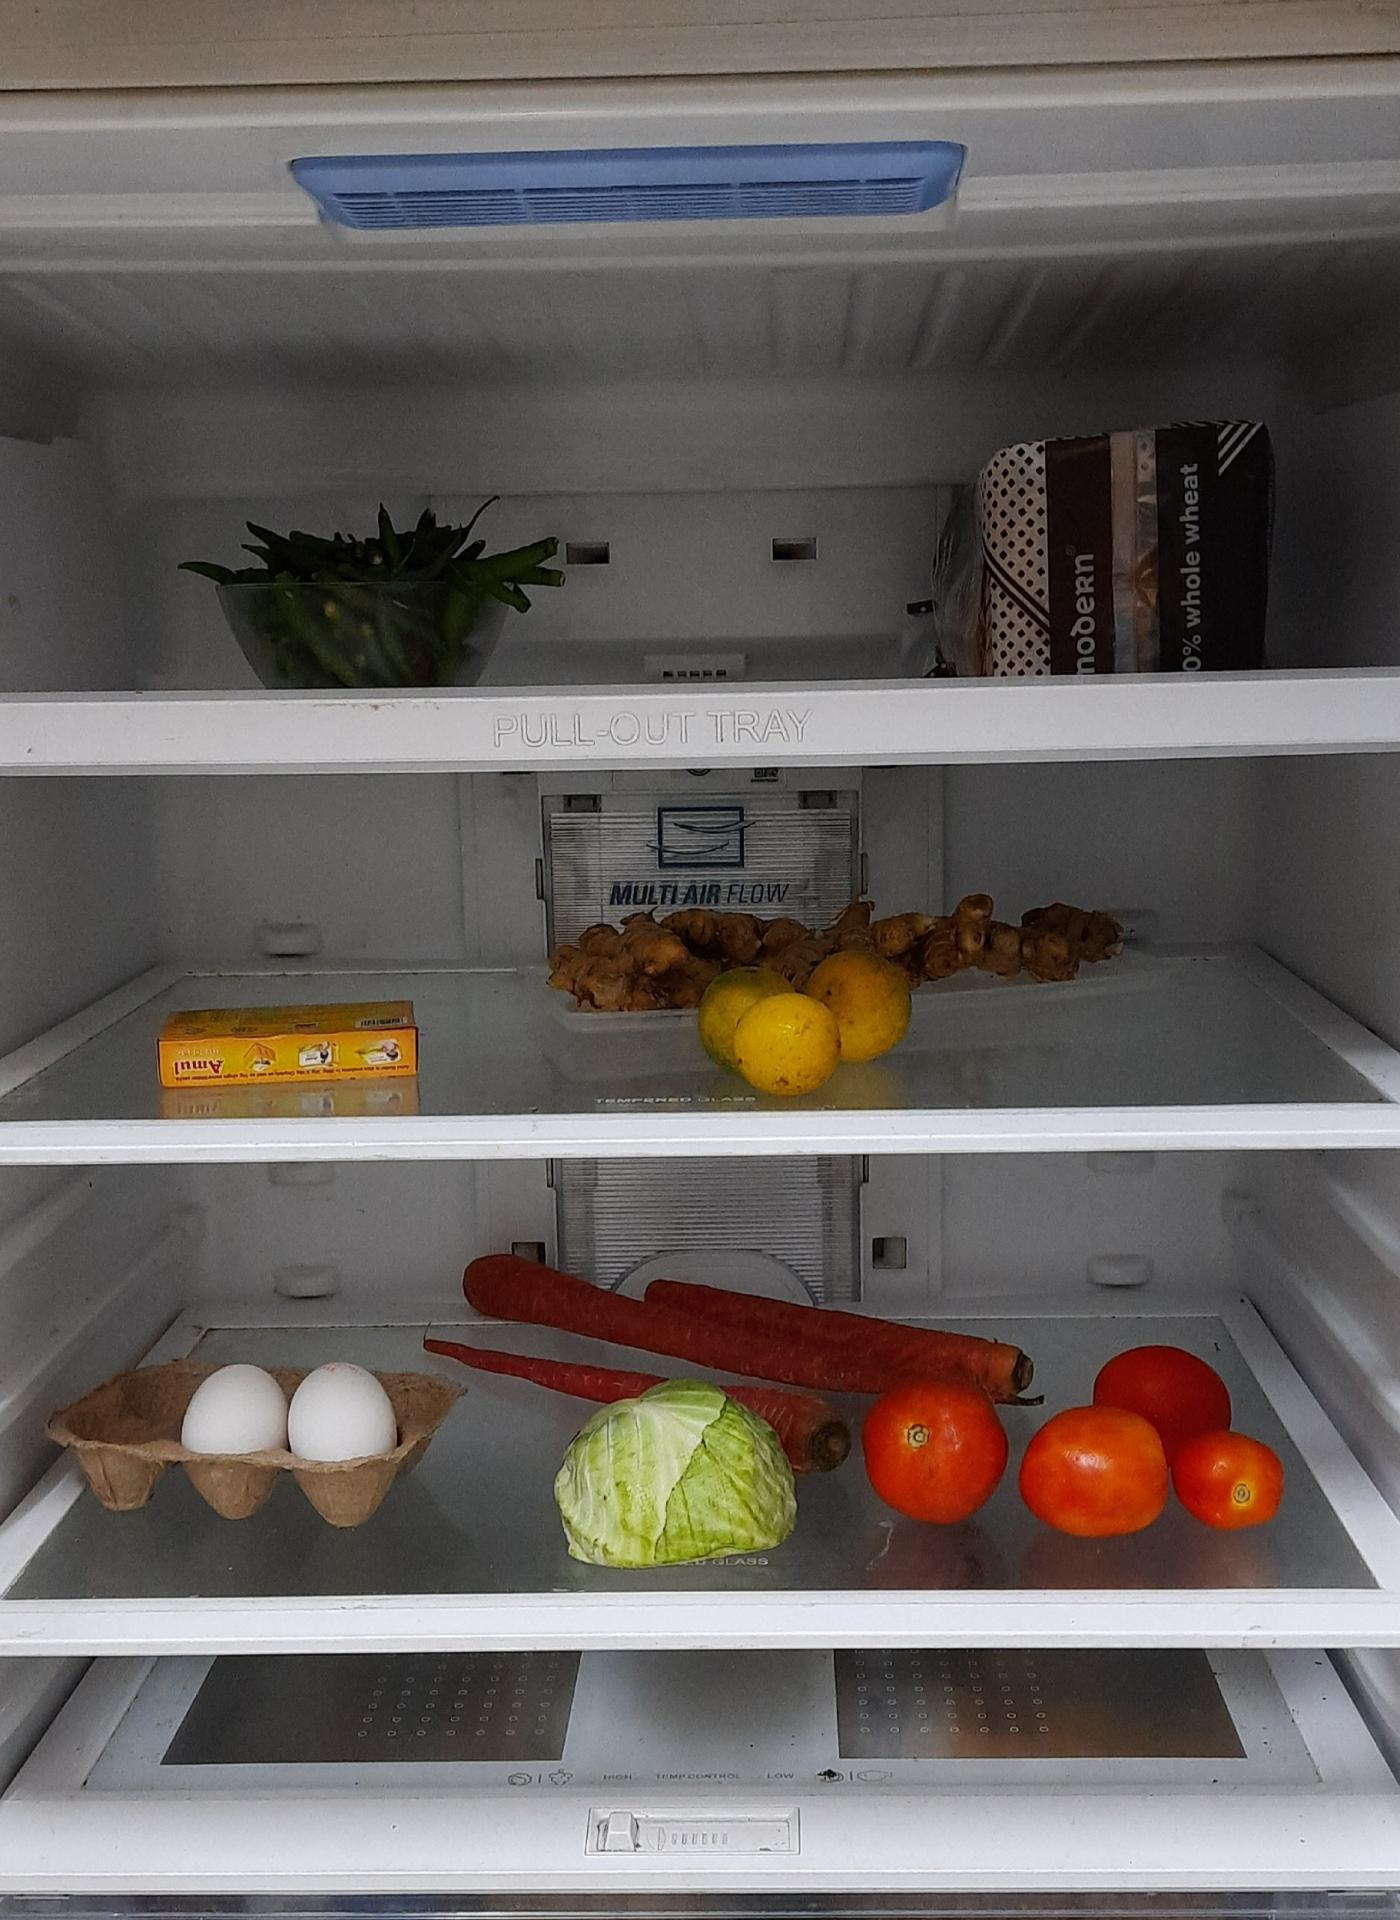bread: (927, 422, 1282, 684)
butter: (160, 1002, 426, 1097)
cabbage: (555, 1394, 799, 1571)
carrots: (446, 1251, 1069, 1470)
chillies: (221, 510, 544, 693)
egg: (179, 1364, 407, 1529)
ginger: (525, 893, 1130, 1006)
lemon: (692, 938, 923, 1105)
tomato: (1020, 1352, 1285, 1541), (850, 1373, 1020, 1523)
